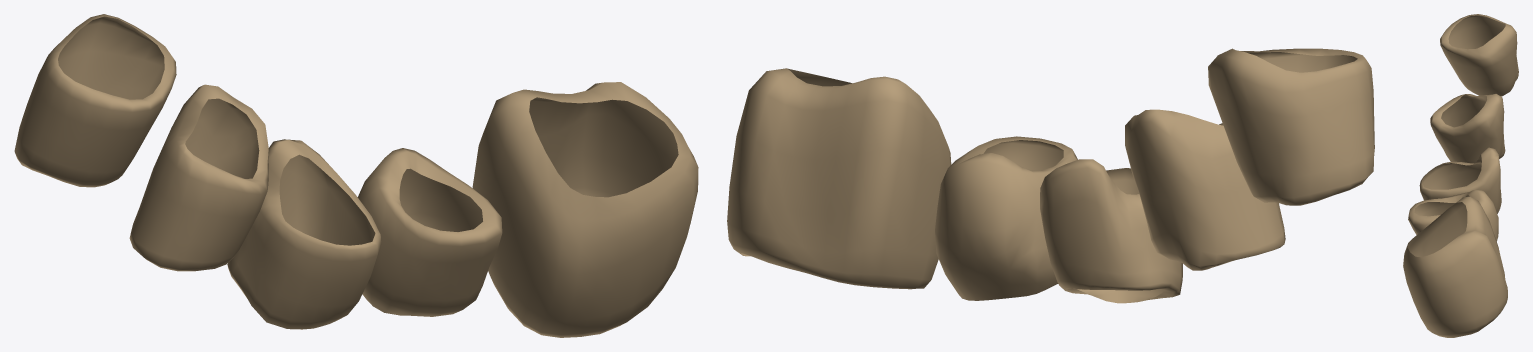
The picture shows the model from 3 angles, left to right: view 1: azimuth 30°, elevation 25°; view 2: azimuth 150°, elevation 25°; view 3: azimuth 270°, elevation 25°; orthographic projection. The views are drawn at different scales.
Visible parts, largest first — view 1: 右侧跖趾关节囊; view 2: 右侧跖趾关节囊; view 3: 右侧跖趾关节囊.
Boxes of the visible parts, x1=… form: 右侧跖趾关节囊: x1=14, y1=14, x2=698, y2=337; 右侧跖趾关节囊: x1=727, y1=48, x2=1374, y2=303; 右侧跖趾关节囊: x1=1403, y1=14, x2=1518, y2=337.
Bounding box in the file's own units: 0.119 × 0.0669 × 0.0364.
